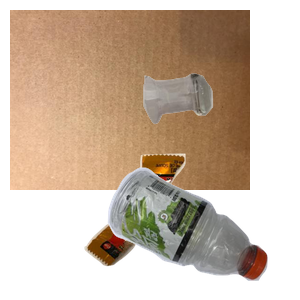cardboard: (10, 10, 250, 190)
glass: (141, 71, 300, 187)
plastic: (105, 165, 300, 300)
trash: (82, 151, 260, 300)
